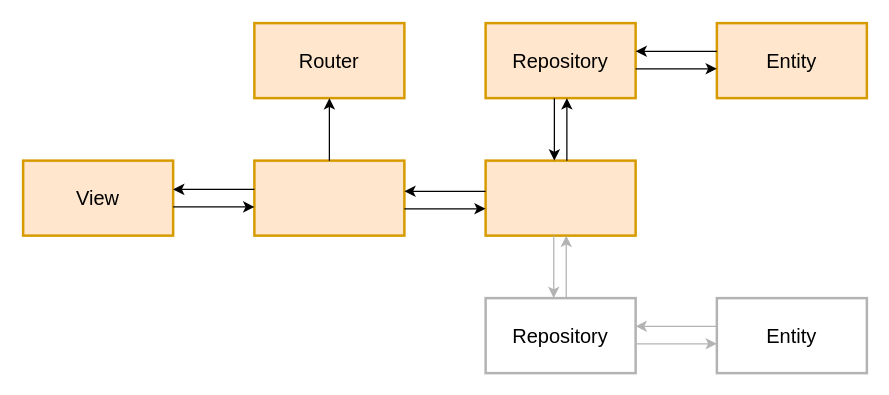
The diagram is 889 pixels wide and 395 high, and some of its shapes have lost their labels. Here are the shapes that lost their labels. From the top down, the centre of each, then its label:
the point at 328,197: Presenter
the point at 560,197: Interactor
